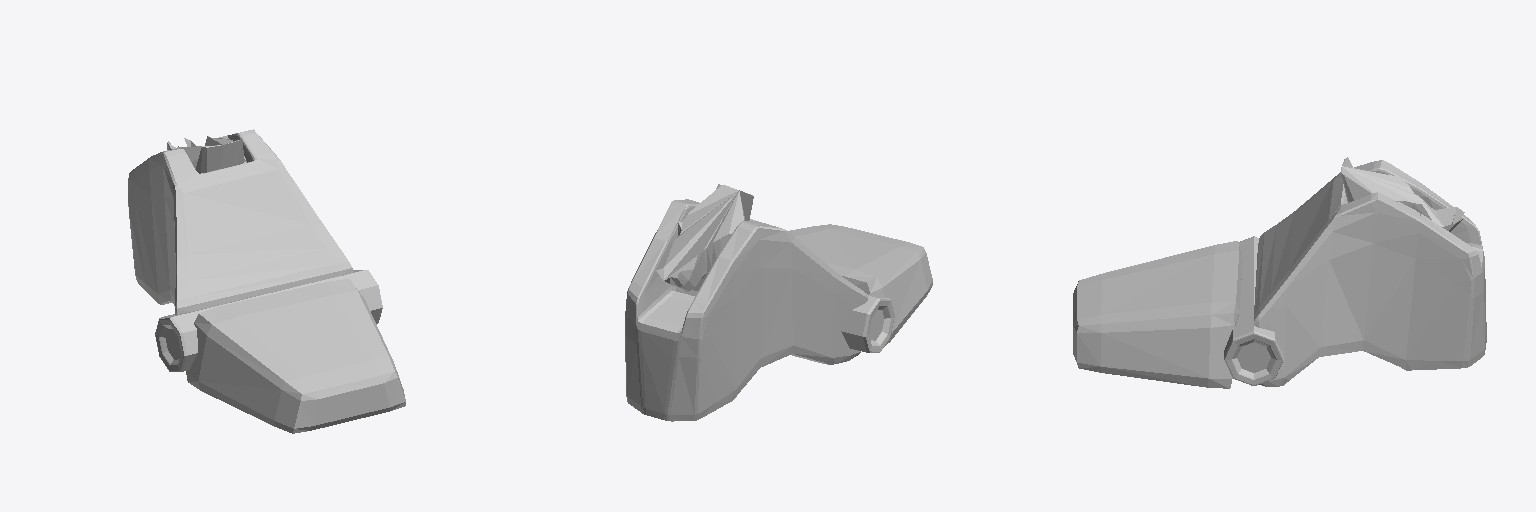
The model's file is Pie_Izquierdo.obj.
3 renders of one model, left to right at view 1: azimuth 30°, elevation 25°; view 2: azimuth 150°, elevation 25°; view 3: azimuth 270°, elevation 25°, orthographic.
Visible parts, largest first — view 1: rig_test.001; view 2: rig_test.001; view 3: rig_test.001.
Boxes of the visible parts, <box> form: rig_test.001: <box>128,129,405,433</box>; rig_test.001: <box>625,184,932,421</box>; rig_test.001: <box>1073,157,1486,388</box>.
Bounding box in the file's own units: 17.54 × 15.26 × 31.59.